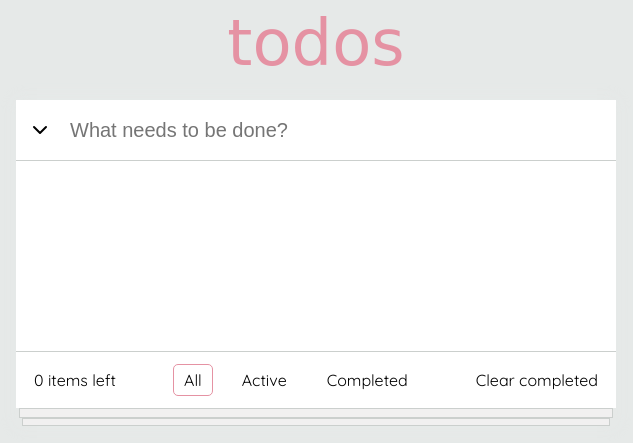
Test: Todo (Critical Functionality Only) › removes task
Добавляем задачу
Type "Clean room" into the field with placeholder "What needs to be done?". click: (337, 130)
box: [70, 118, 604, 142]
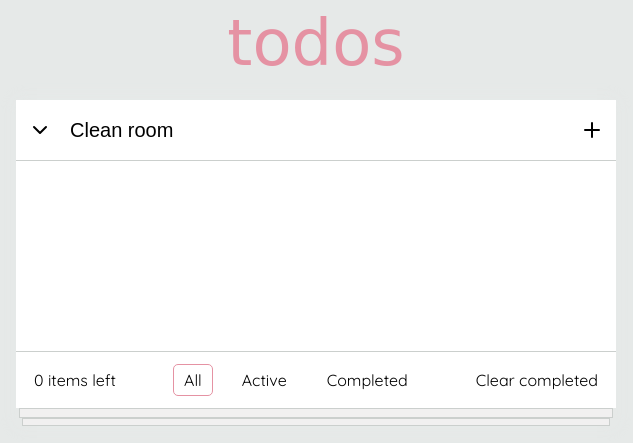
Press Enter
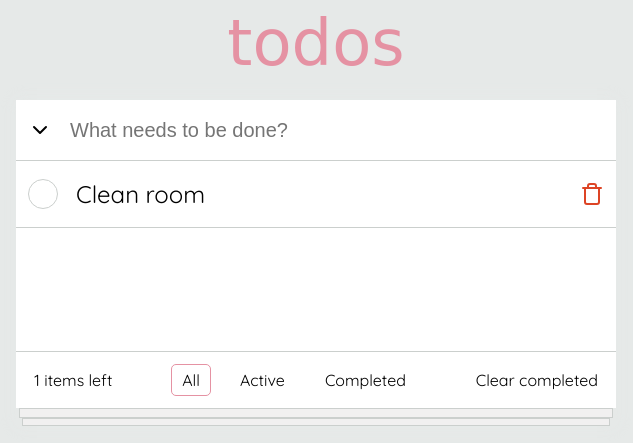
Result: the list item "Clean room" is shown at [76, 179, 562, 209]
Находим и кликаем кнопку удаления
Click the icon with test id "button-remove". click: click(592, 194)
box: [580, 182, 604, 206]
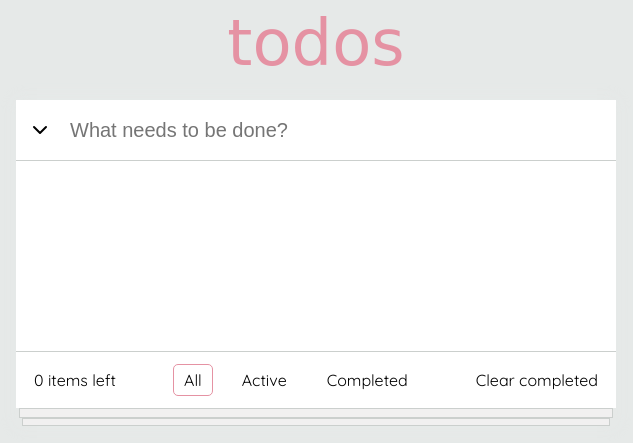
Result: the list item "Clean room" is gone
